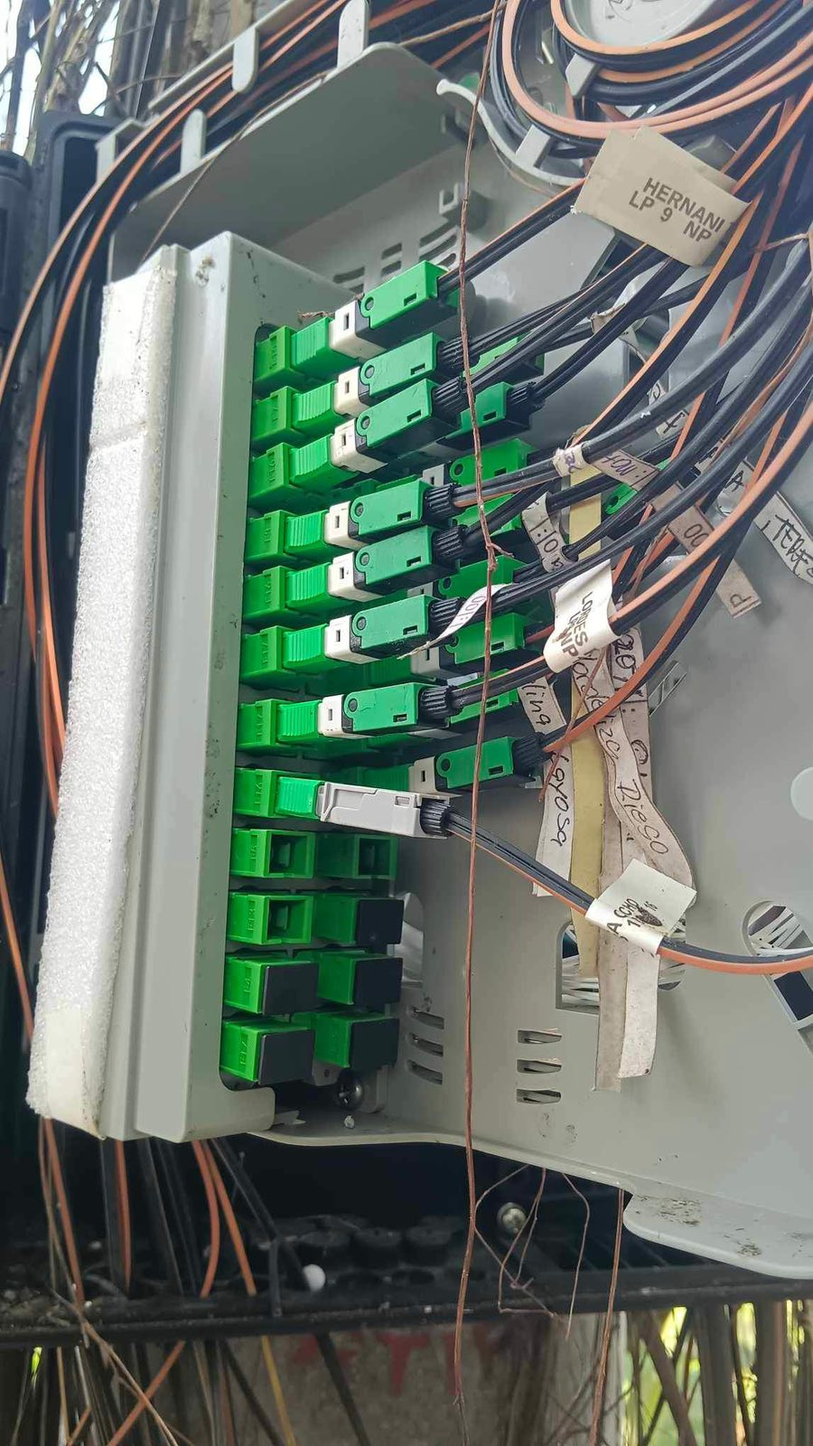no dust cap: (265, 831, 315, 884), (265, 899, 313, 945), (358, 839, 399, 880)
occupied: (291, 362, 475, 491), (348, 374, 546, 490), (340, 323, 554, 426), (290, 321, 487, 432), (360, 486, 562, 586), (291, 257, 462, 375), (282, 515, 483, 615), (280, 472, 475, 555), (279, 591, 474, 674), (364, 435, 549, 522), (360, 723, 551, 807), (268, 772, 466, 853), (361, 555, 541, 637), (367, 611, 549, 690), (367, 666, 538, 750), (275, 676, 466, 746)
vacant: (259, 1030, 314, 1086), (264, 963, 318, 1016), (351, 1018, 401, 1074), (350, 957, 403, 1007), (355, 898, 406, 947)
